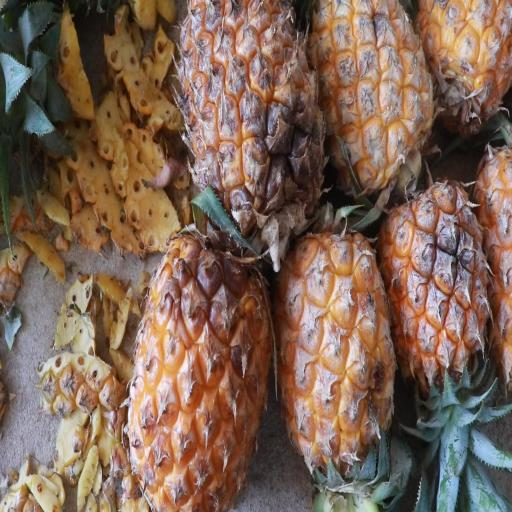Pineapple - v8 v1: (127, 219, 275, 510), (180, 1, 328, 246), (278, 216, 400, 474), (306, 0, 436, 205), (382, 172, 494, 384), (415, 0, 512, 148)
